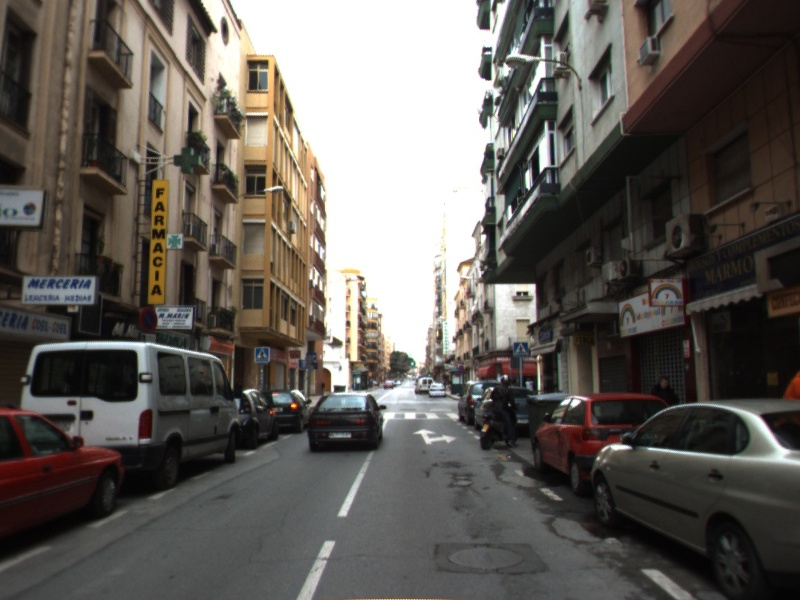STRAIGHT_RIGHT: (412, 427, 458, 446)
